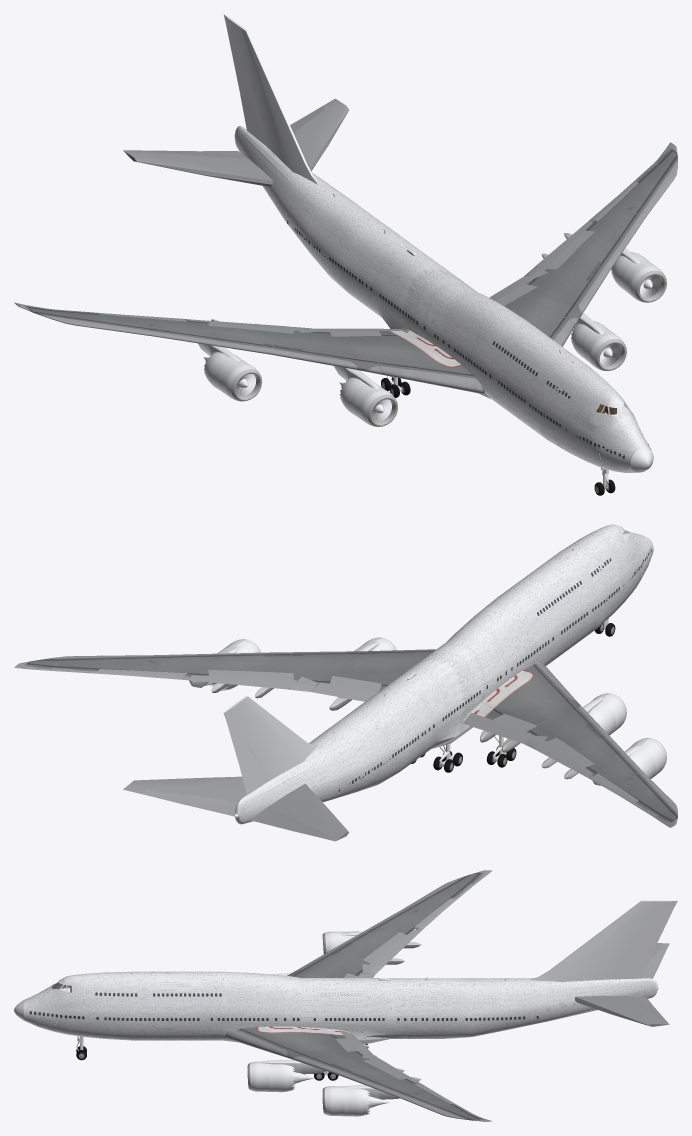
3 renders of one model, top to bottom at view 1: azimuth 30°, elevation 25°; view 2: azimuth 150°, elevation 25°; view 3: azimuth 270°, elevation 25°, orthographic. The views are drawn at different scales.
Parts seen in each view (by area): view 1: body, gear, rud1; view 2: body, gear, rud1, elevL1, flapL3, elevR1, flapR2, flapL2, flapR3, ailL1; view 3: body, rud1, gear, flapR3.
Boxes of the visible parts, box(x1,y1,x2,y2) form: body: box(14, 14, 677, 474); gear: box(208, 230, 615, 495); rud1: box(226, 24, 264, 144); body: box(14, 524, 677, 841); gear: box(208, 618, 615, 767); rud1: box(226, 714, 266, 794); elevL1: box(143, 789, 238, 816); flapL3: box(187, 675, 297, 689); elevR1: box(250, 807, 324, 837); flapR2: box(463, 710, 532, 743); flapL2: box(311, 682, 377, 701); flapR3: box(535, 740, 592, 777); ailL1: box(95, 669, 187, 679); body: box(14, 870, 677, 1121); rud1: box(612, 907, 674, 979); gear: box(76, 932, 406, 1079); flapR3: box(369, 929, 421, 966).
Bounding box in the file's own units: 68.4 × 20.02 × 76.55.
26 materials, 17 textured.
